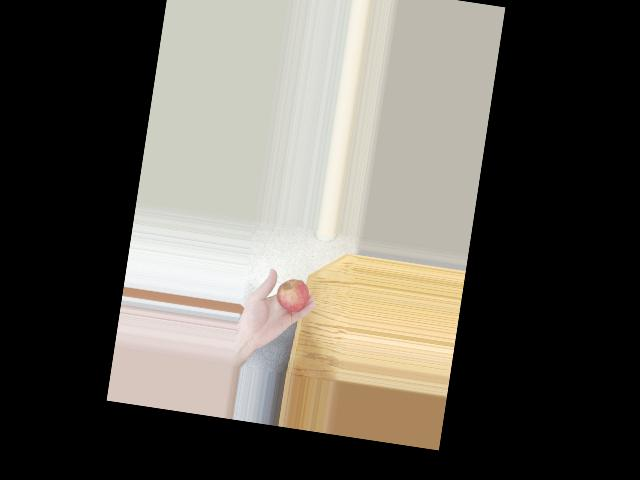apple: (272, 275, 312, 313)
